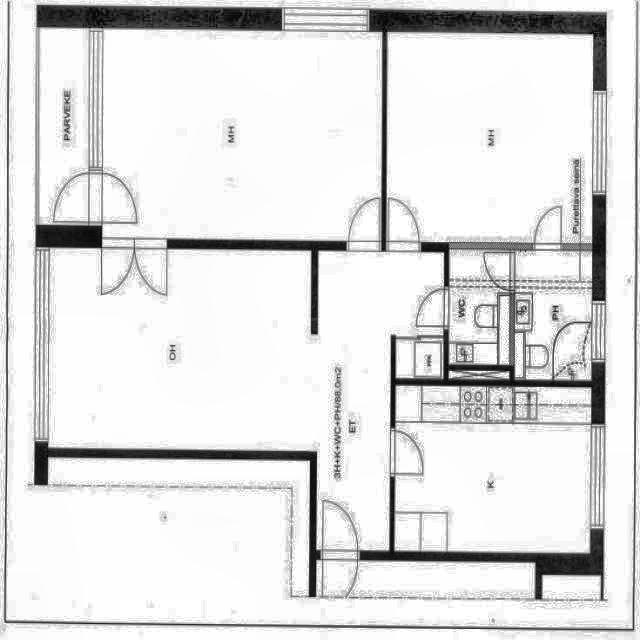room: (101, 28, 383, 240), (387, 32, 593, 243), (395, 386, 591, 554), (449, 250, 509, 365)
